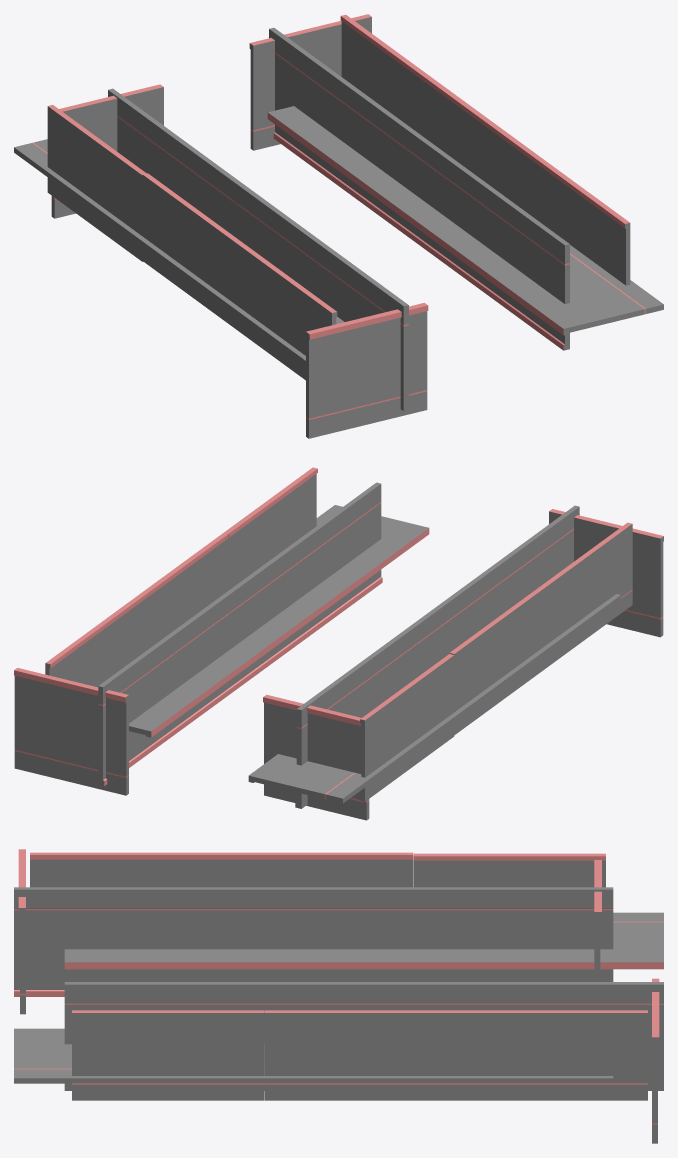
The model's file is S_Envi_Hongta_Building_036.gltf.
3 renders of one model, top to bottom at view 1: azimuth 30°, elevation 25°; view 2: azimuth 150°, elevation 25°; view 3: azimuth 270°, elevation 25°, orthographic. The views are drawn at different scales.
Visible parts, largest first — view 1: S_Envi_Hongta_Building_036; view 2: S_Envi_Hongta_Building_036; view 3: S_Envi_Hongta_Building_036.
Part boxes in pixels (box(x1,y1,x2,y2)): S_Envi_Hongta_Building_036: box(14, 14, 663, 438); S_Envi_Hongta_Building_036: box(14, 467, 663, 820); S_Envi_Hongta_Building_036: box(14, 849, 663, 1143).
Bounding box in the file's own units: 18.86 × 5.68 × 27.94.
